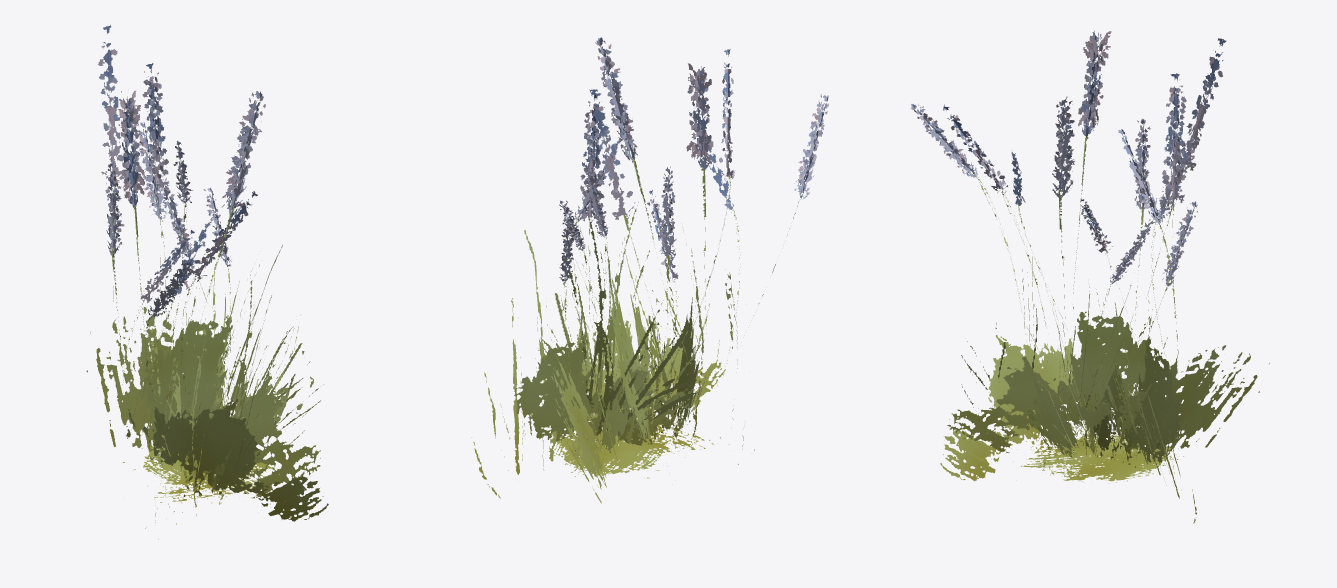
The model's file is grass42.fbx.
3 renders of one model, left to right at view 1: azimuth 30°, elevation 25°; view 2: azimuth 150°, elevation 25°; view 3: azimuth 270°, elevation 25°, orthographic. The views are drawn at different scales.
Parts seen in each view (by area): view 1: Lavander1_BAKED; view 2: Lavander1_BAKED; view 3: Lavander1_BAKED.
Boxes of the visible parts, bbox=[...] form: Lavander1_BAKED: bbox=[86, 25, 328, 539]; Lavander1_BAKED: bbox=[471, 37, 828, 503]; Lavander1_BAKED: bbox=[910, 31, 1269, 523].
Size of the model in its own units: 91.35 by 75.43 by 112.
